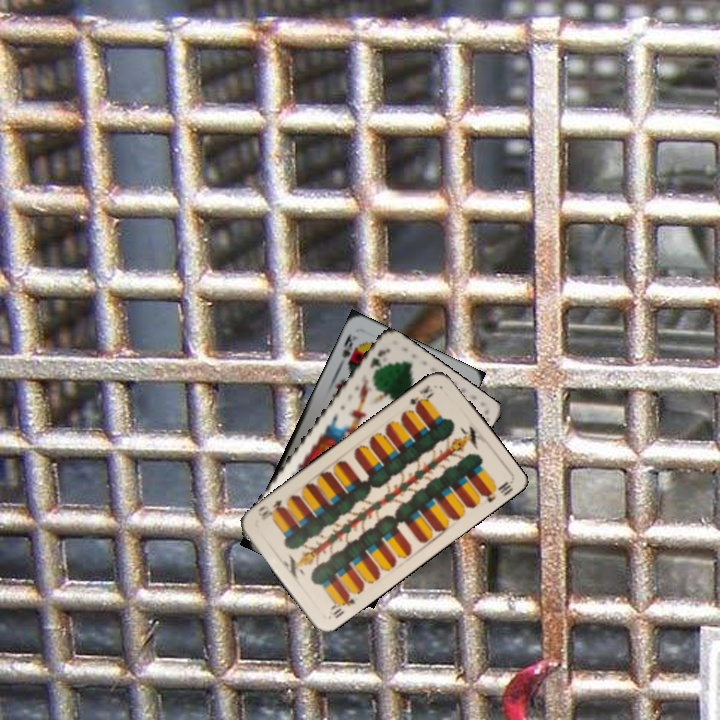E10: (405, 381, 436, 414), (326, 590, 358, 621)
GK: (366, 344, 392, 377)
SK: (338, 329, 361, 367)
